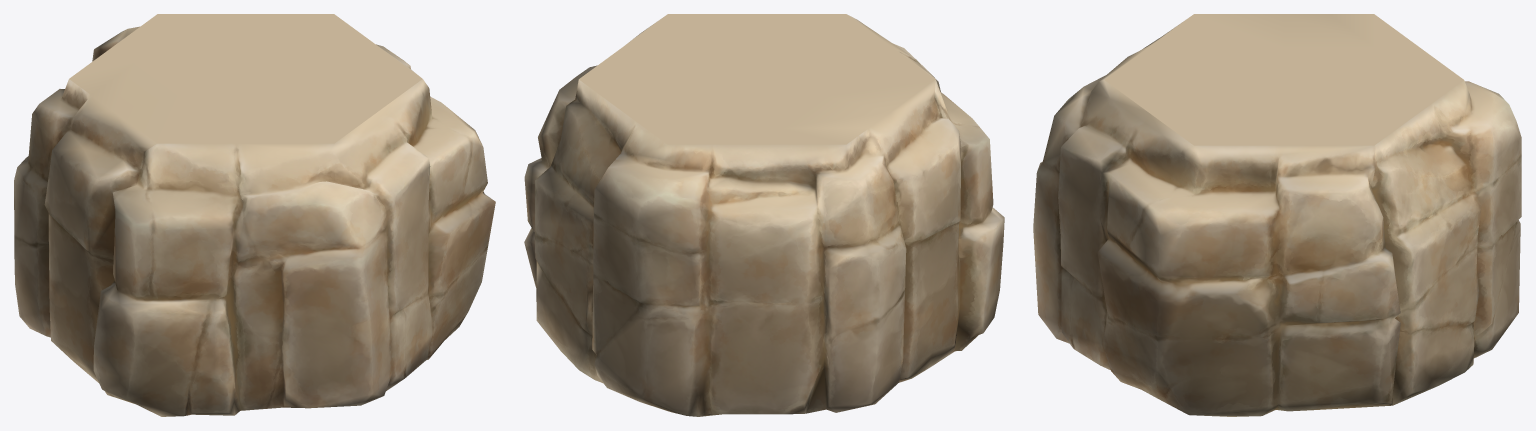
The model's file is mesh_HexTerrain_Top.fbx.
The picture shows the model from 3 angles, left to right: view 1: azimuth 30°, elevation 25°; view 2: azimuth 150°, elevation 25°; view 3: azimuth 270°, elevation 25°; orthographic projection.
Visible parts, largest first — view 1: HexTerrain_Top_LOD0; view 2: HexTerrain_Top_LOD0; view 3: HexTerrain_Top_LOD0.
Part boxes in pixels (x1,y1,x2,y2): HexTerrain_Top_LOD0: (14, 14, 495, 416); HexTerrain_Top_LOD0: (524, 14, 1004, 416); HexTerrain_Top_LOD0: (1033, 14, 1521, 416).
Size of what is drawn, in the model's own units: 10.05 by 6.43 by 10.97.
